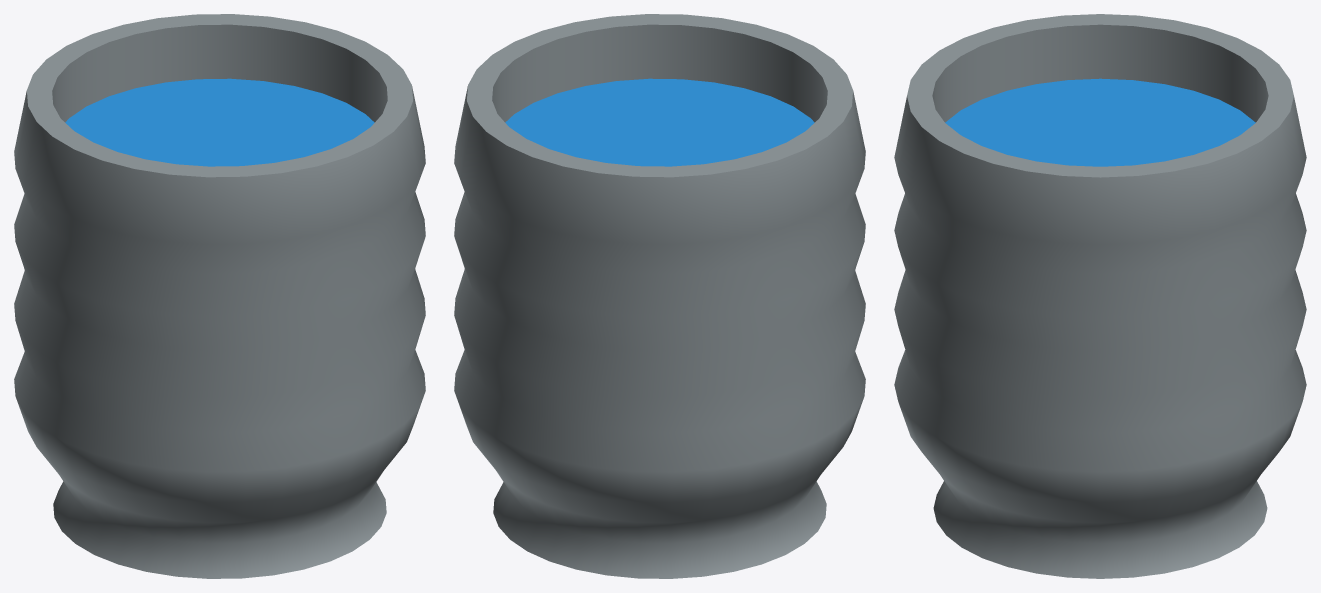
The model's file is Cup_item.fbx.
The picture shows the model from 3 angles, left to right: view 1: azimuth 30°, elevation 25°; view 2: azimuth 150°, elevation 25°; view 3: azimuth 270°, elevation 25°; orthographic projection.
Visible parts, largest first — view 1: Cylinder; view 2: Cylinder; view 3: Cylinder.
Part boxes in pixels (box(x1,y1,x2,y2)): Cylinder: box(14, 14, 425, 578); Cylinder: box(454, 14, 865, 578); Cylinder: box(894, 14, 1306, 578).
Size of the model in its own units: 79.07 by 87.3 by 79.07.
